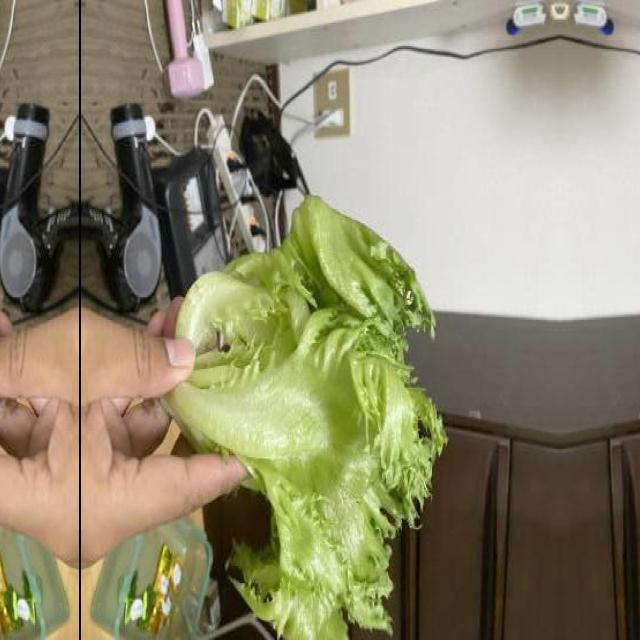healthy: (170, 191, 450, 640)
